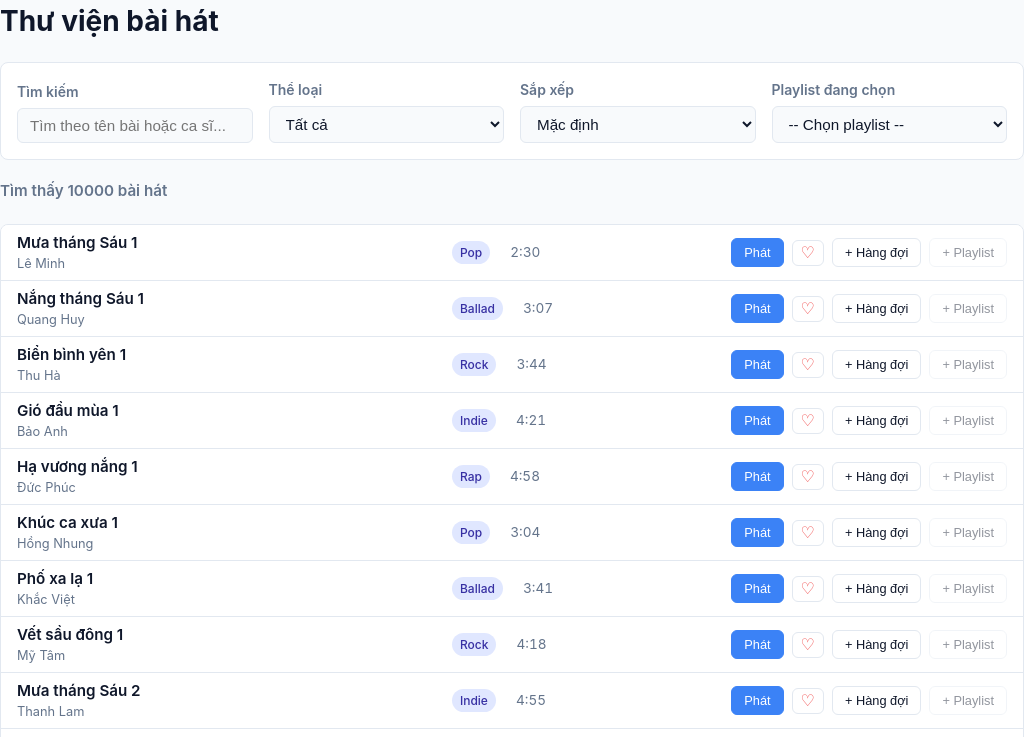
Test: LibraryPage - Tự kiểm tra Phần 1 › gõ "xyz" hiển thị "Không tìm thấy bài hát nào"
Type "xyz" into the field labelled "Tìm kiếm" at (135, 125), box [17,108,252,143]
Wait 300 ms
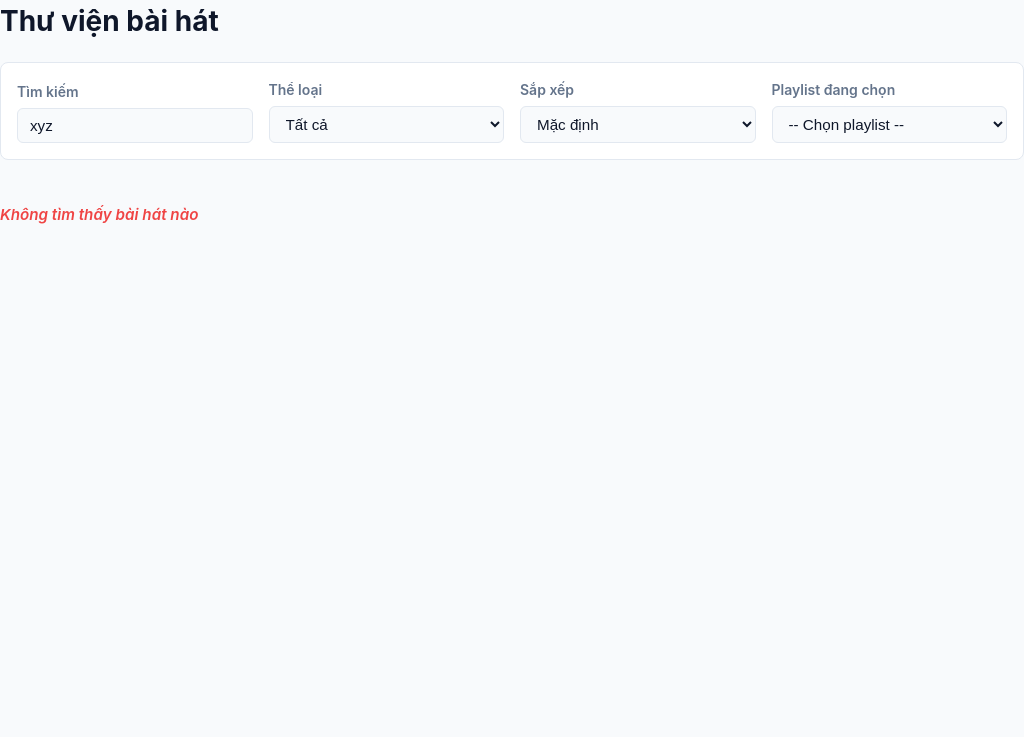
Now the text "Không tìm thấy bài hát nào" is shown, box [0,205,198,224]
